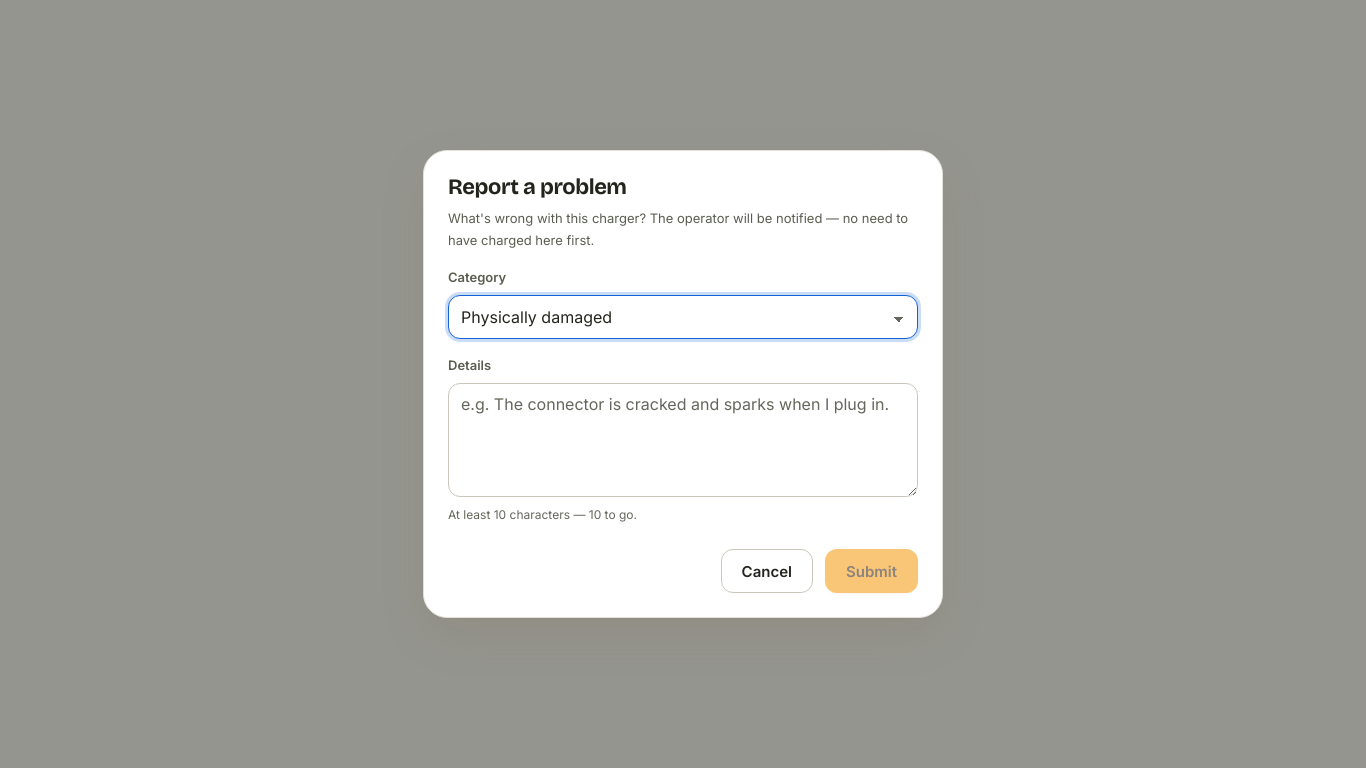
ReportProblemModal — open › renders a server rejection inline and keeps the modal open
Type "The connector is cracked and sparks whenever I plug in." into the text box labelled "Details".
click(683, 440); type("The connector is cracked and sparks whenever I plug in.")  # box [448,383,918,497]
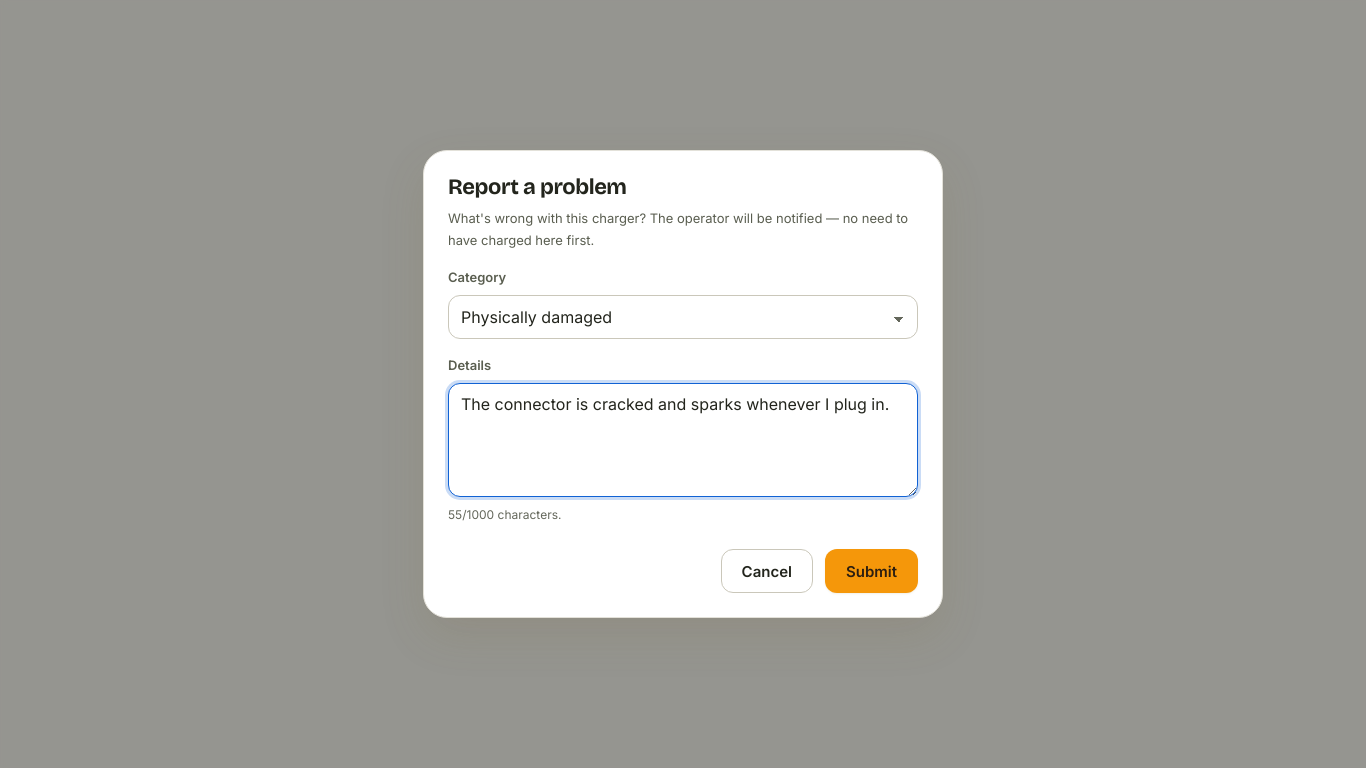
Click the button "Submit".
click(872, 571)  # box [825,549,918,593]
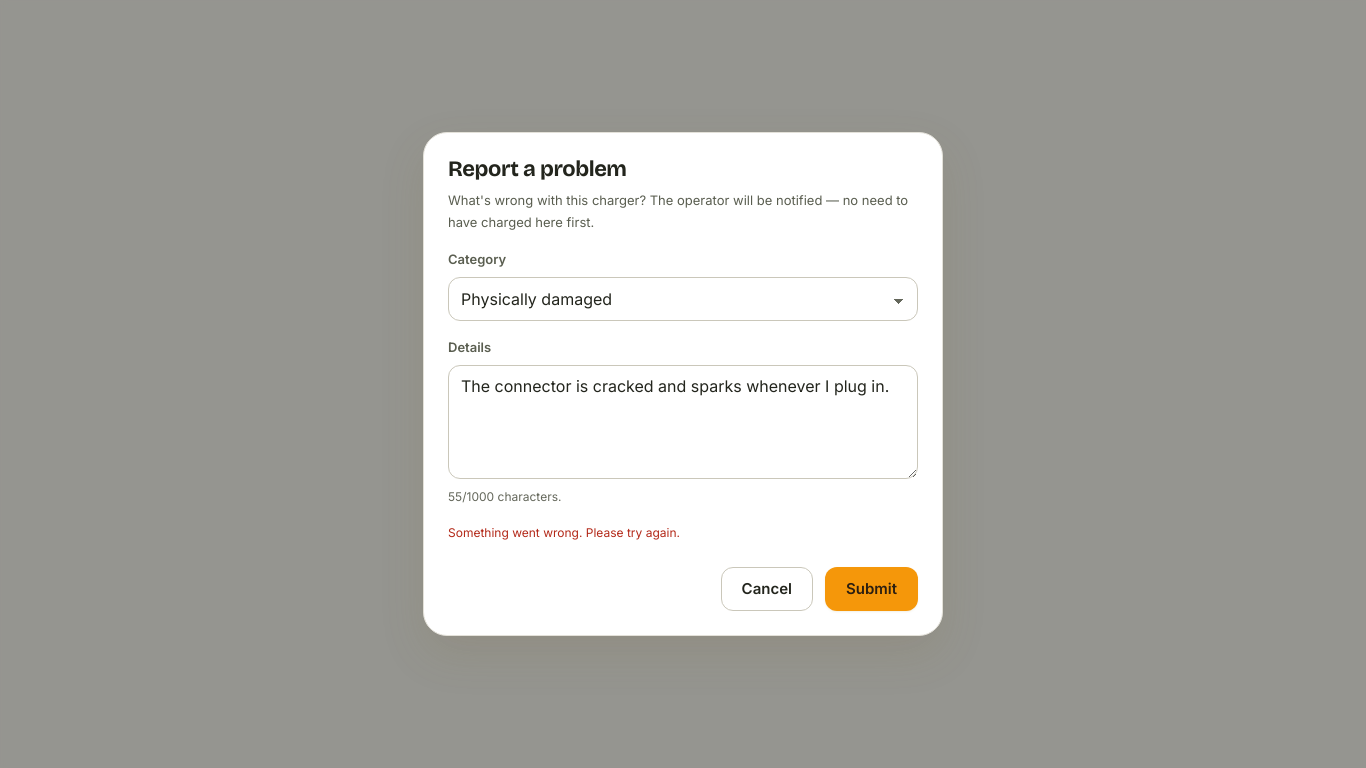
Result: the button "Submit" is enabled at [825,567,918,611]
Result: the text "Something went wrong. Please try again." is shown at [448,525,680,540]
